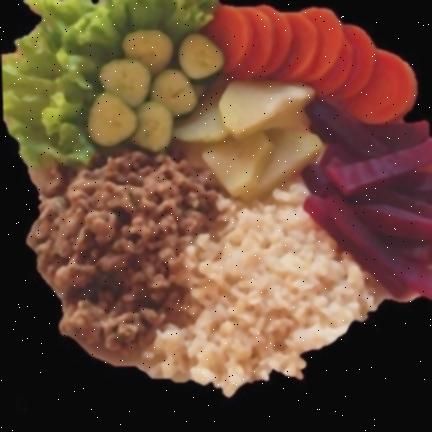beet: (302, 99, 431, 300)
carrot: (201, 5, 417, 124)
cucumber: (89, 30, 224, 152)
meat: (28, 151, 220, 357)
potato: (174, 82, 322, 200)
rice: (143, 183, 388, 395)
salad: (2, 0, 217, 166)
